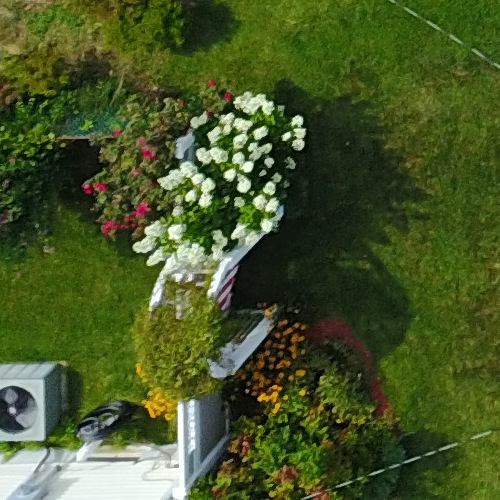air conditioner: (1, 345, 84, 454)
